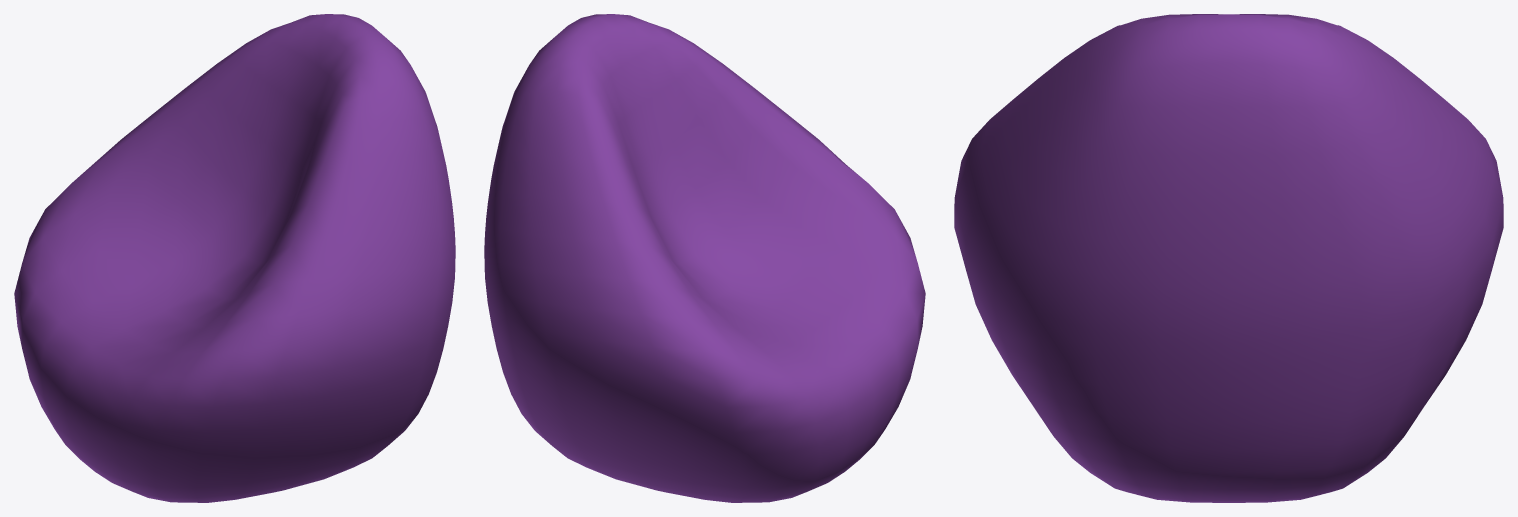
Rendered from beanbag_02_purple.fbx.
3 views of the same model, side by side, from view 1: azimuth 30°, elevation 25°; view 2: azimuth 150°, elevation 25°; view 3: azimuth 270°, elevation 25° (orthographic). The views are drawn at different scales.
Parts seen in each view (by area): view 1: beanbag_02_purple; view 2: beanbag_02_purple; view 3: beanbag_02_purple.
Part boxes in pixels (bbox=[...]): beanbag_02_purple: bbox=[14, 14, 455, 502]; beanbag_02_purple: bbox=[484, 14, 925, 502]; beanbag_02_purple: bbox=[954, 14, 1503, 502].
Bounding box in the file's own units: 87.11 × 97.36 × 93.71.
Materials: 1 (1 with a texture image).
